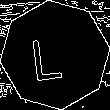L_N: (37, 28, 73, 82)
